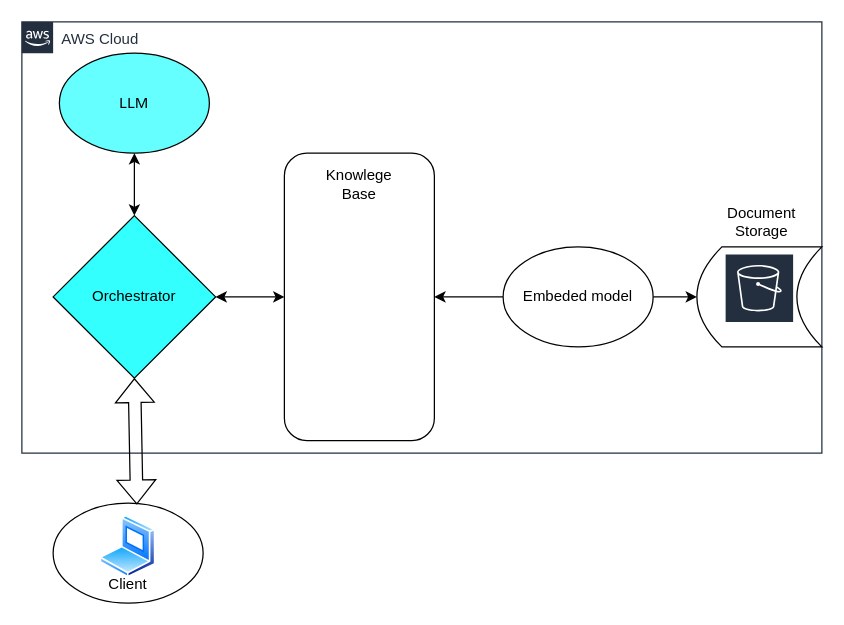
Image size: 844x625. Some labels were removed from this diagram. Each missing label, with the box of its shape:
Amazon S3: (723, 252, 794, 341)
Vector Based Kendra Database Redshift: (283, 152, 434, 441)
